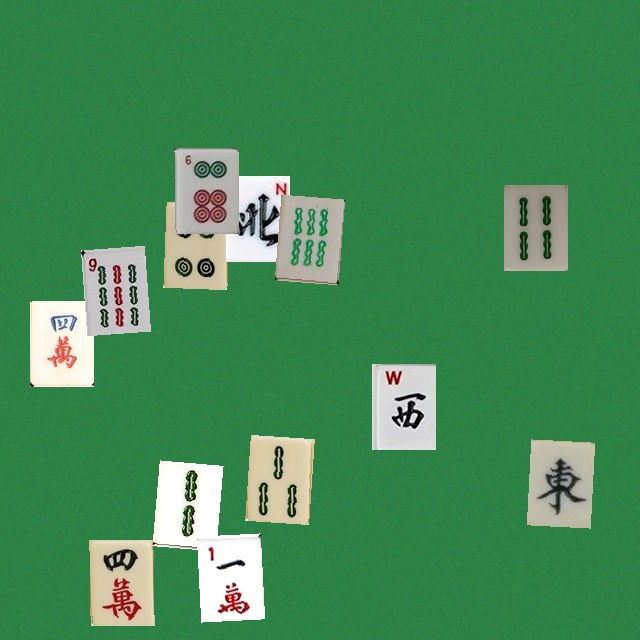tile: (89, 539, 153, 625), (371, 363, 435, 449), (152, 460, 216, 546), (163, 201, 227, 287), (245, 434, 309, 520), (225, 175, 289, 261), (174, 147, 238, 233), (274, 194, 338, 280), (29, 300, 93, 386), (503, 184, 567, 270), (196, 533, 260, 619), (80, 245, 144, 331), (526, 439, 590, 525)
